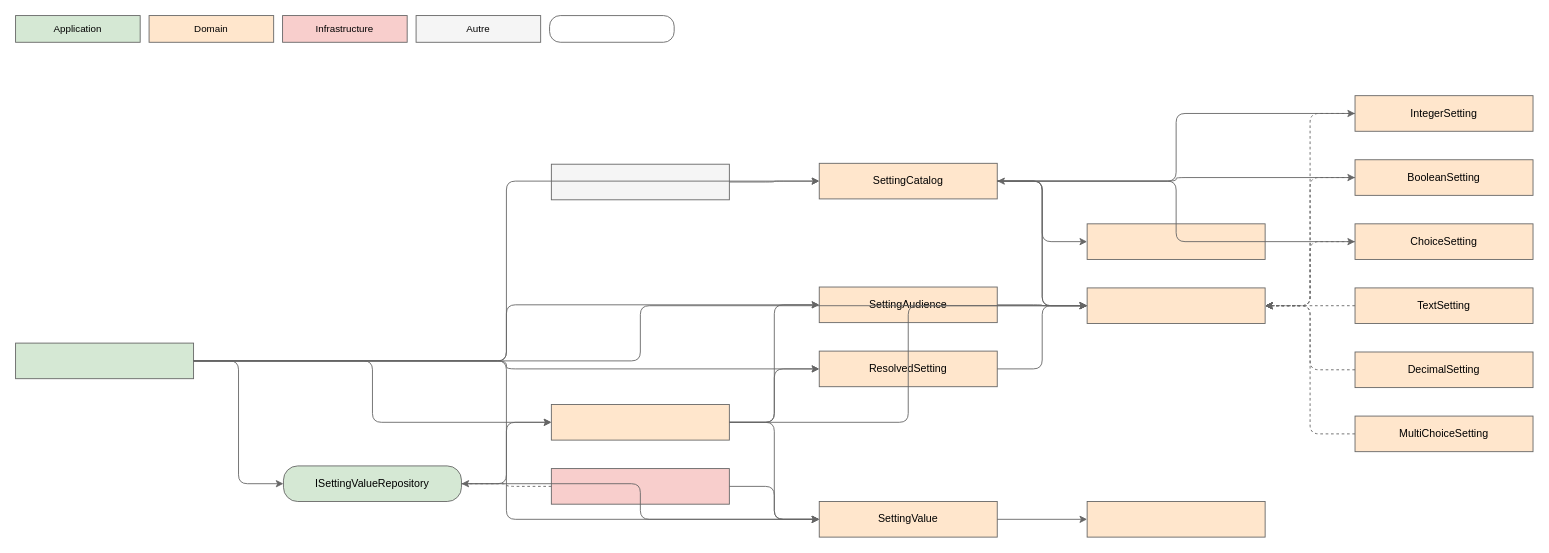
Image size: 1549x553. Some labels were removed from this diagram. The box of each missing label's shape, as (x1, y1, x2, y2) in pixels:
Port (interface): (549, 15, 674, 42)
PostgresSettingValueRepository: (550, 468, 729, 504)
SettingDefinition: (1086, 287, 1265, 324)
SettingReader: (15, 342, 194, 379)
SettingResolution: (550, 404, 729, 440)
SettingScope: (1086, 501, 1265, 537)
SettingScopes: (1086, 223, 1265, 259)
SettingsModule: (550, 163, 729, 200)
